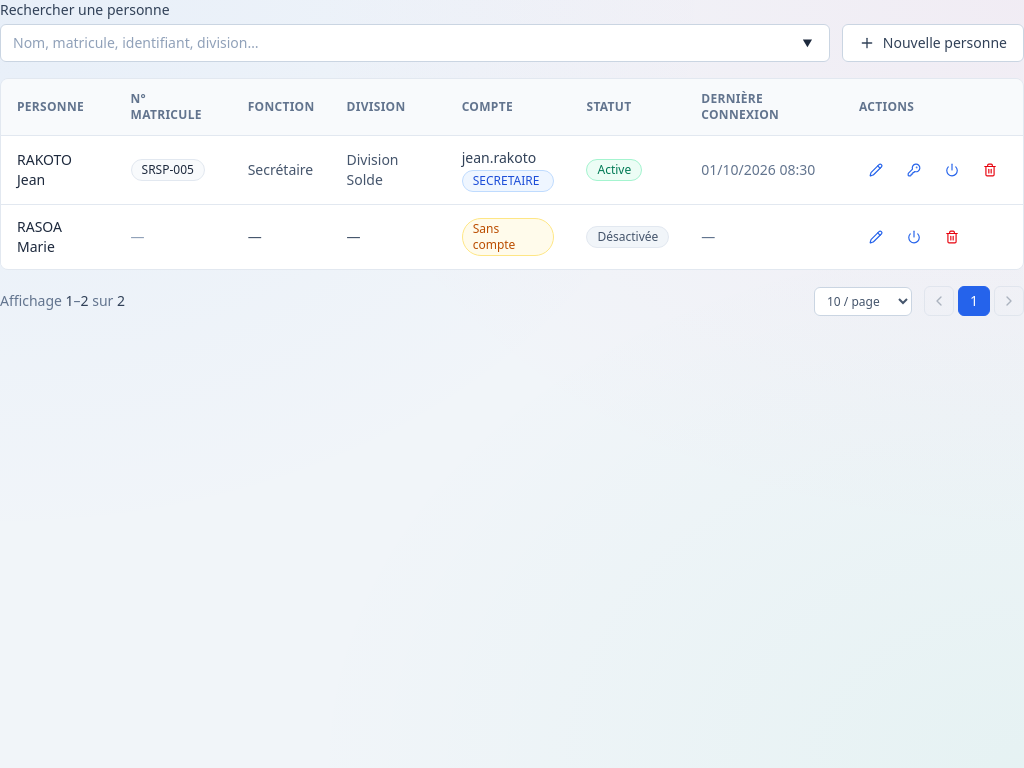
Personnel — le formulaire › nomme ce qui manque au lieu d’enregistrer une fiche vide
Expected: the text "RAKOTO Jean" is shown, [17,150,72,189]
Click the button "Nouvelle personne".
click(933, 43)  # box [842,24,1023,62]
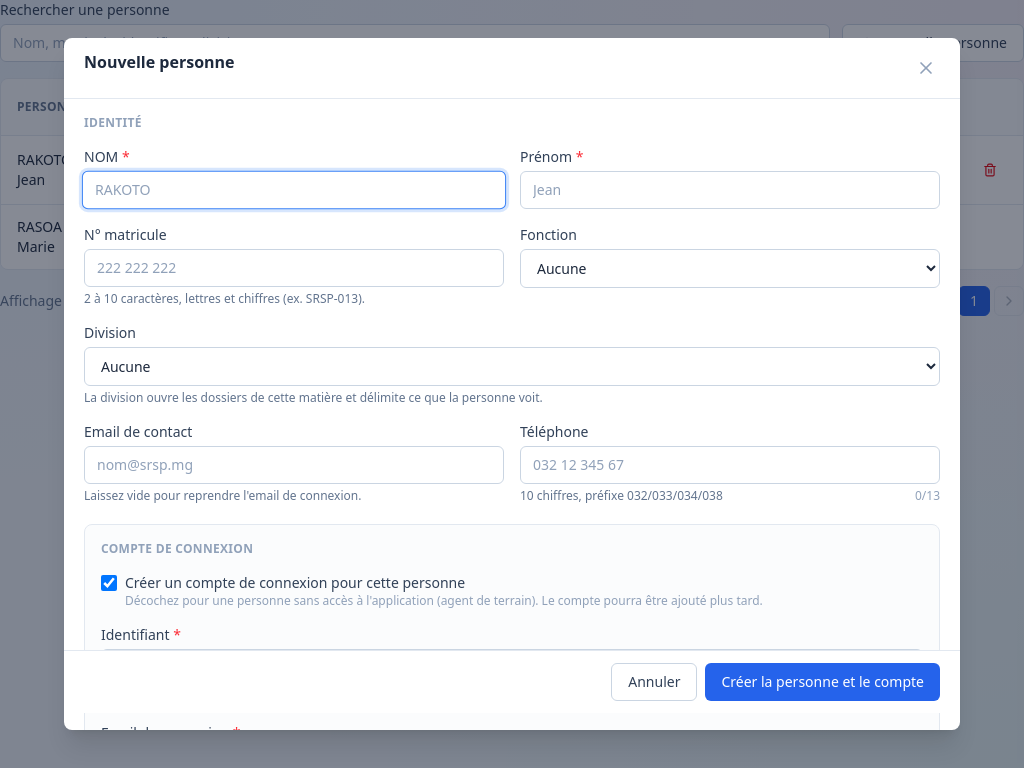
# Sans compte : seuls le nom et le prénom restent à compléter.
Click the checkbox labelled "Créer un compte de connexion".
click(109, 583)  # box [101,575,117,591]
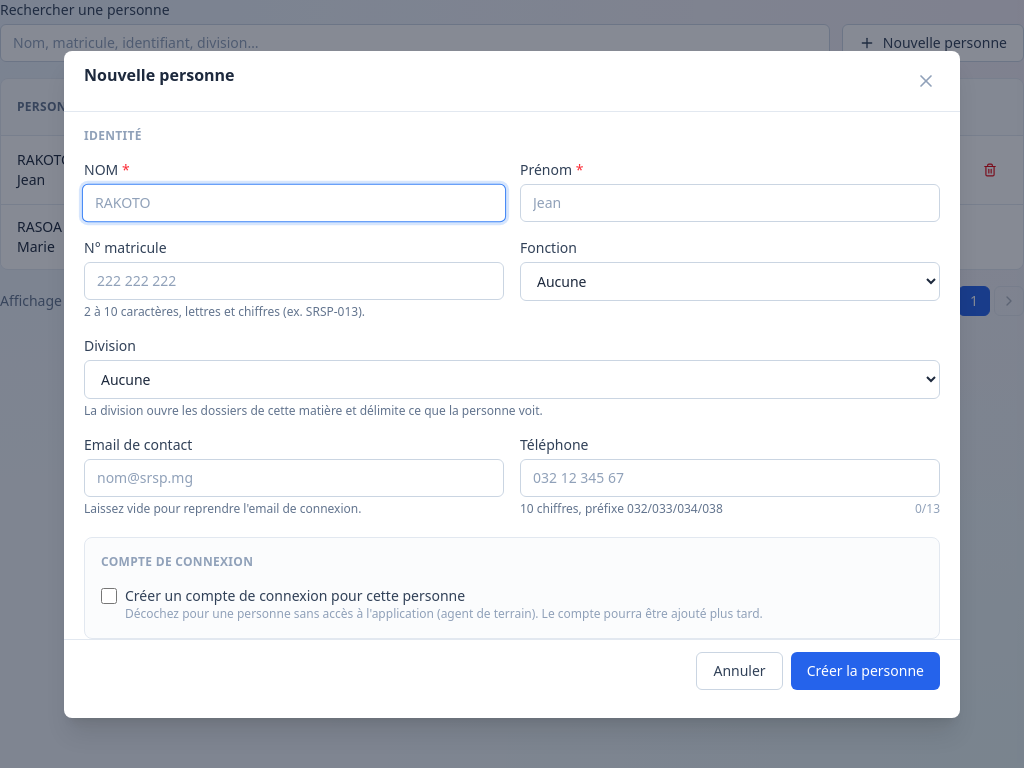
Click the button "Créer la personne".
click(865, 670)  # box [791,652,940,690]
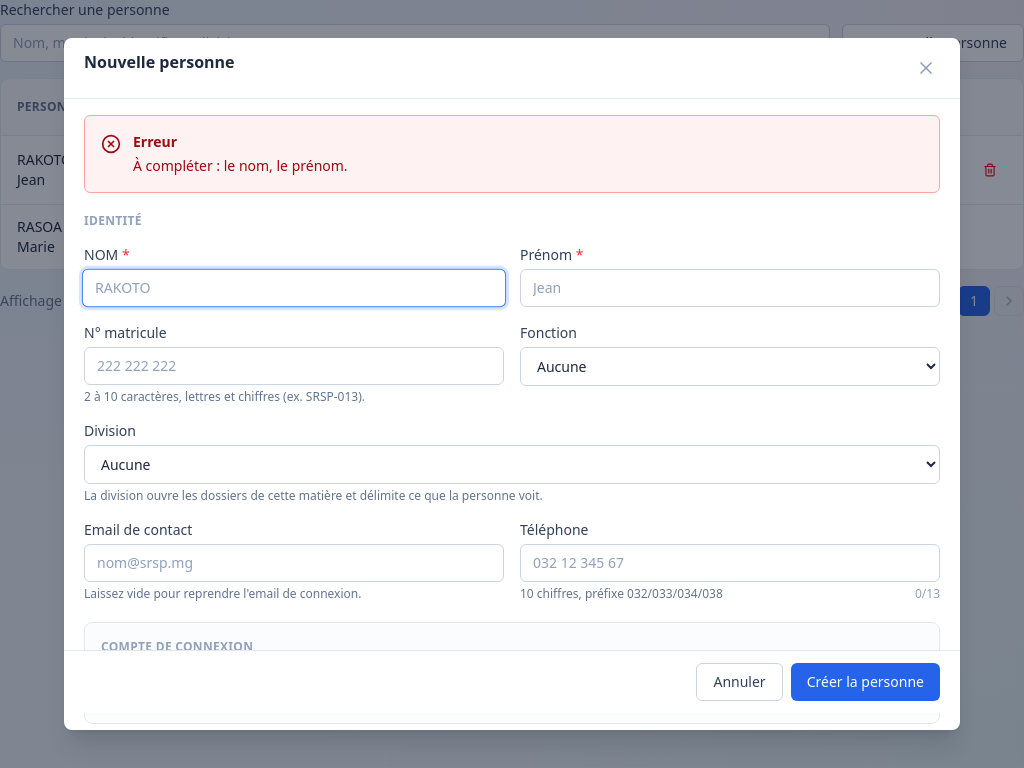
Expected: the text "À compléter : le nom, le prénom." is shown, [133,156,348,176]
